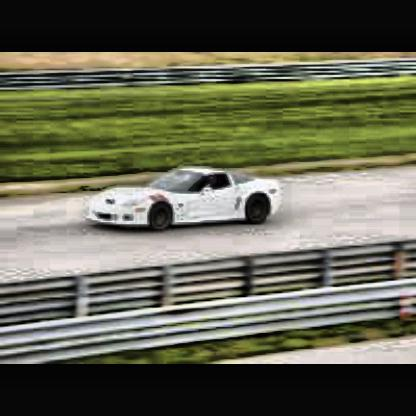Chevrolet Corvette Ron Fellows Edition Z06 2007: (91, 157, 284, 240)
